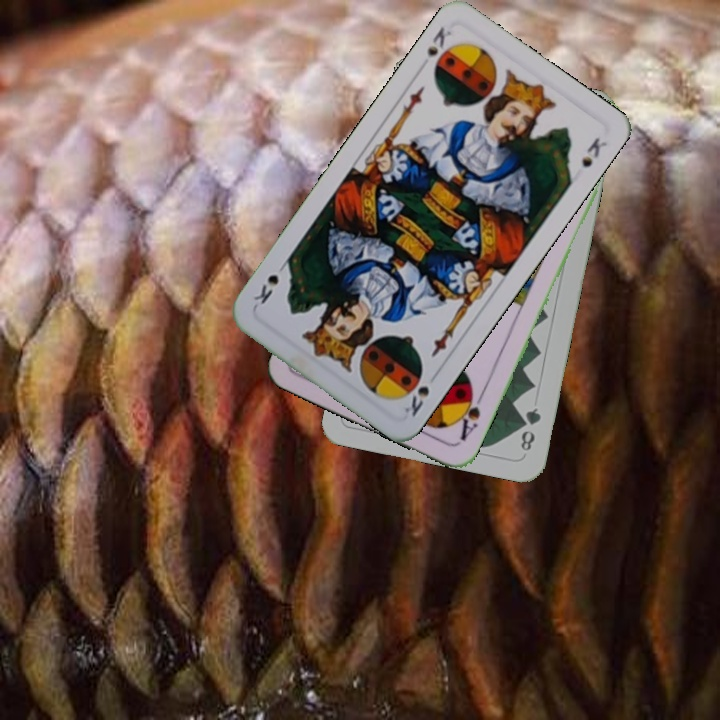G8: (516, 403, 544, 454)
SA: (452, 385, 486, 443)
SK: (417, 22, 454, 73), (400, 382, 432, 419)
